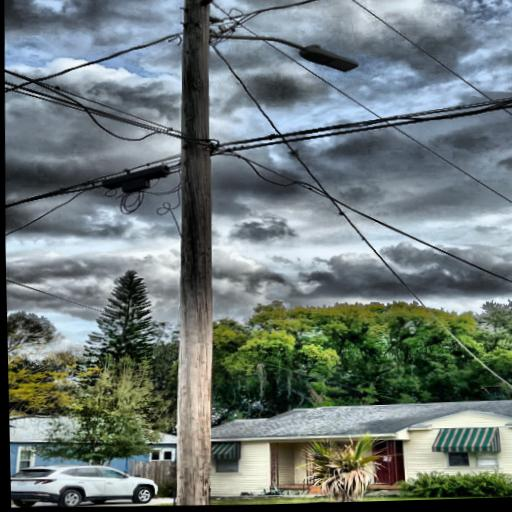pole: (144, 0, 223, 507)
street light: (204, 25, 363, 79)
